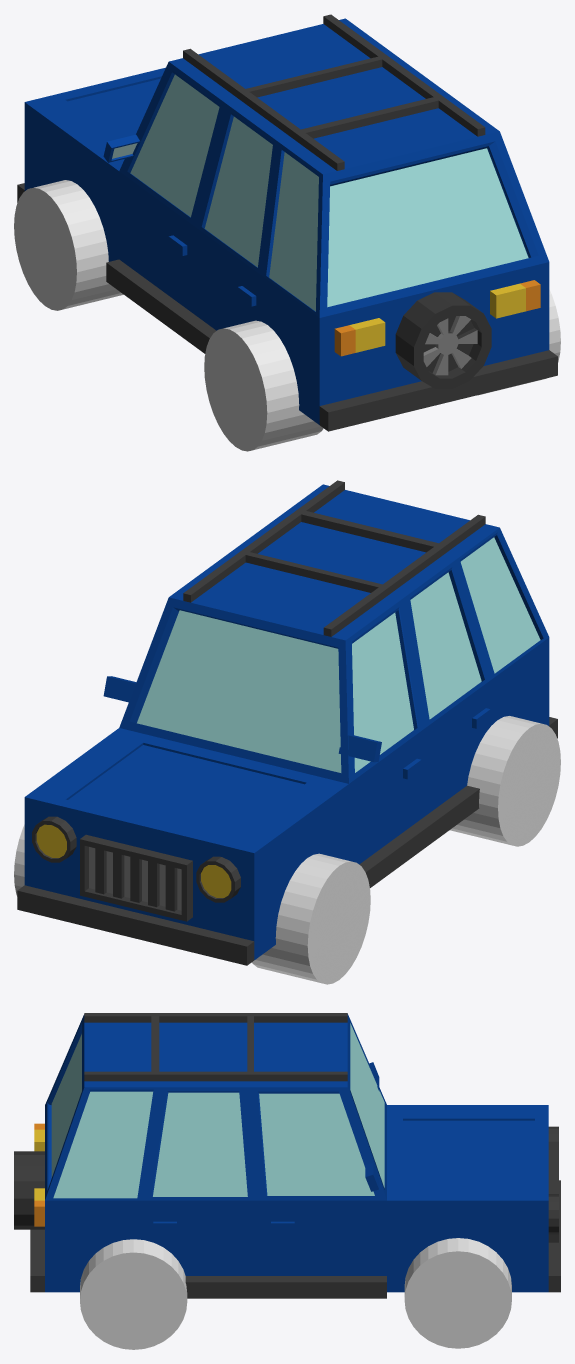
The model's file is range_rover_ish_azul.fbx.
The picture shows the model from 3 angles, top to bottom: view 1: azimuth 30°, elevation 25°; view 2: azimuth 150°, elevation 25°; view 3: azimuth 270°, elevation 25°; orthographic projection. The views are drawn at different scales.
Parts seen in each view (by area): view 1: Cube, Cylinder.001, Cylinder, Cylinder.005, Cube.001, Cube.003; view 2: Cube, Cylinder, Cylinder.001, Cube.002, Cylinder.004, Cube.003; view 3: Cube, Cylinder, Cylinder.001, Cylinder.005, Cube.001, Cylinder.004, Cube.002, Cube.003.
Part boxes in pixels (x1,y1,x2,y2): Cube: (17, 14, 557, 431); Cylinder.001: (204, 289, 560, 451); Cylinder: (14, 180, 123, 310); Cylinder.005: (395, 292, 491, 388); Cube.001: (334, 280, 540, 356); Cube.003: (103, 134, 139, 162); Cube: (17, 480, 557, 965); Cylinder: (14, 824, 370, 984); Cylinder.001: (450, 716, 560, 846); Cube.002: (80, 834, 192, 921); Cylinder.004: (32, 816, 240, 902); Cube.003: (103, 676, 381, 762); Cube: (30, 1013, 560, 1298); Cylinder: (404, 1238, 511, 1348); Cylinder.001: (80, 1239, 187, 1349); Cylinder.005: (14, 1151, 44, 1229); Cube.001: (34, 1123, 44, 1226); Cylinder.004: (548, 1126, 558, 1234); Cube.002: (548, 1150, 558, 1242); Cube.003: (365, 1062, 379, 1191).
Size of the model in its own units: 255 by 238 by 483.
